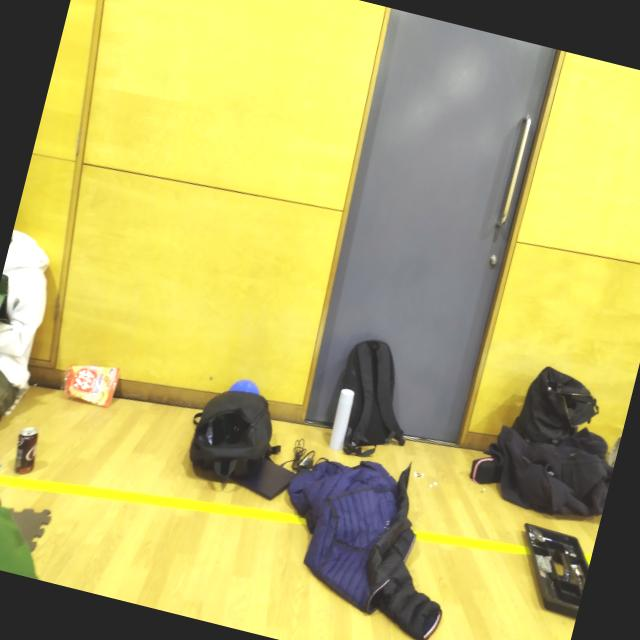blue_ball: (229, 373, 266, 404)
